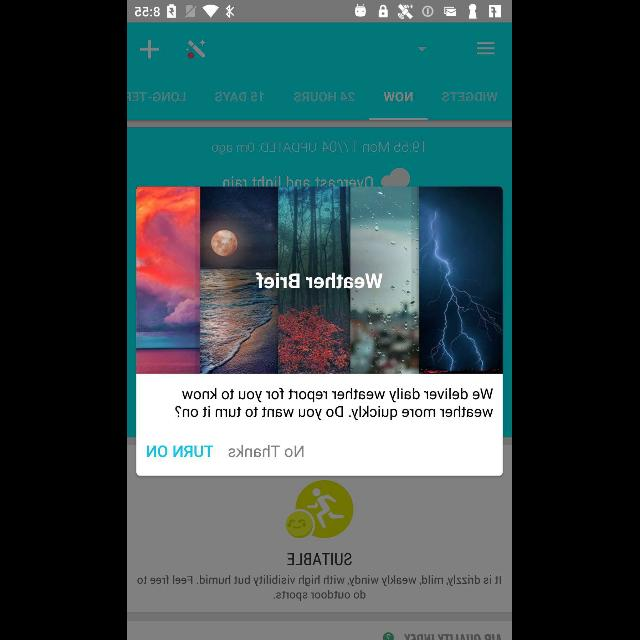icon: (140, 40, 160, 59), (187, 40, 207, 59), (477, 42, 495, 56), (418, 46, 428, 52)
image: (137, 186, 503, 374), (286, 480, 354, 538)
panel: (136, 187, 504, 476)
text: (138, 574, 502, 602), (176, 388, 494, 420), (213, 143, 427, 155), (256, 272, 384, 290), (230, 444, 304, 458), (288, 552, 352, 566), (148, 445, 215, 457), (294, 92, 356, 102), (128, 92, 186, 102), (442, 92, 498, 102), (216, 92, 264, 102), (384, 92, 414, 102)
uppertaskbar: (128, 1, 512, 23)
